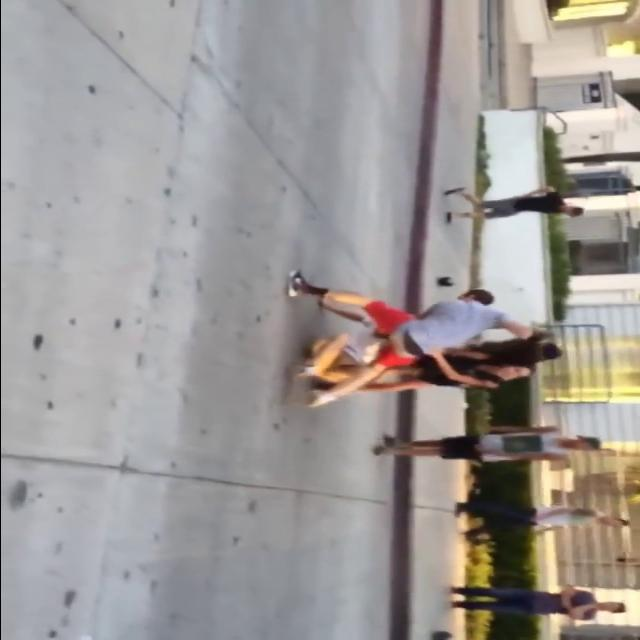NonViolence: (364, 416, 604, 470), (450, 496, 633, 546), (442, 585, 626, 621), (440, 185, 584, 226)
Violence: (292, 284, 506, 374)
